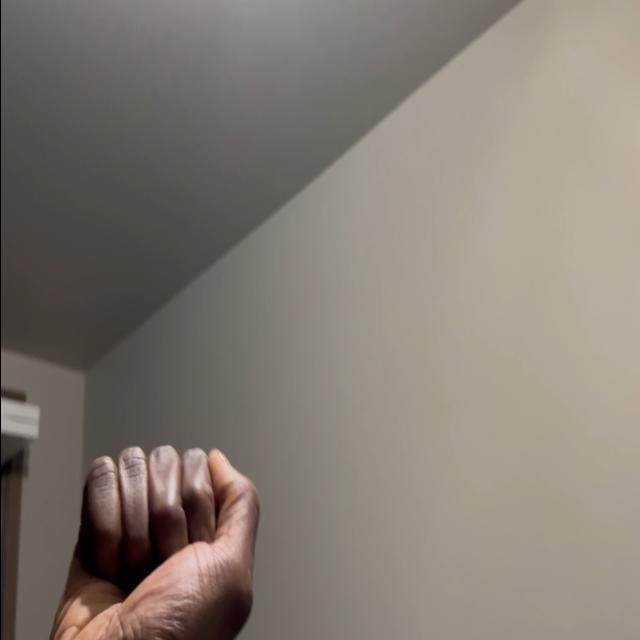Rock: (43, 436, 263, 640)
